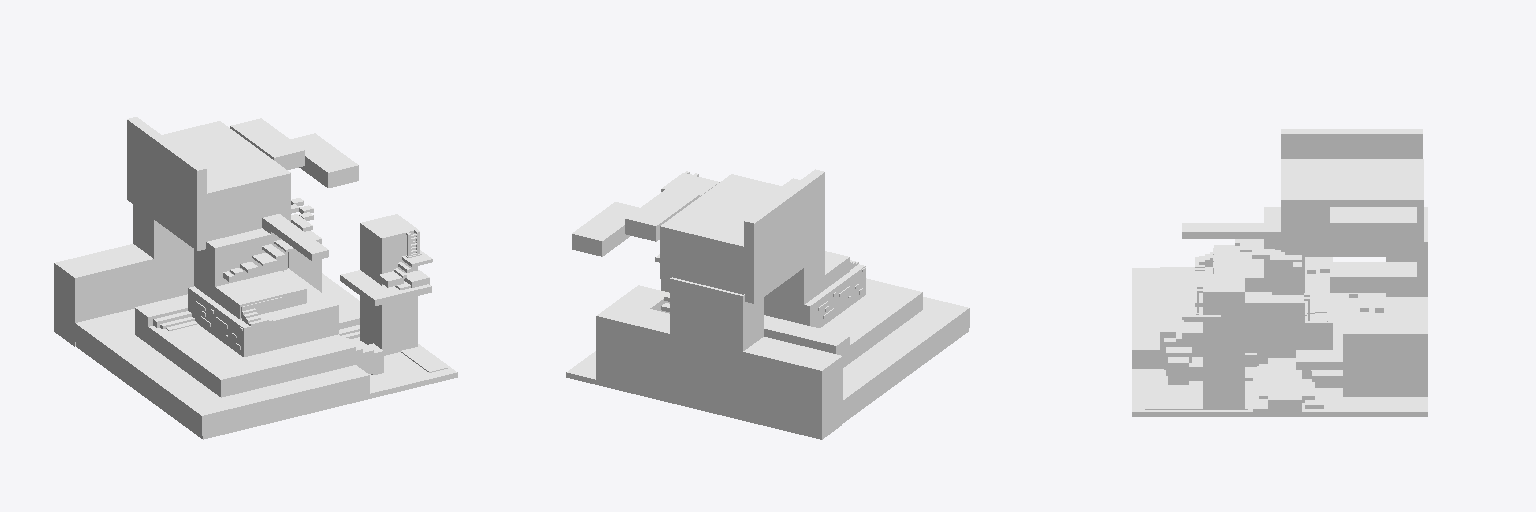
File: maps1demo-34.obj
The picture shows the model from 3 angles: view 1: azimuth 30°, elevation 25°; view 2: azimuth 150°, elevation 25°; view 3: azimuth 270°, elevation 25°; orthographic projection.
Parts seen in each view (by area): view 1: object 1; view 2: object 1; view 3: object 1.
Boxes of the visible parts, box(x1,y1,x2,y2) form: object 1: box(54, 117, 457, 439); object 1: box(566, 169, 969, 439); object 1: box(1132, 129, 1427, 416).
Size of the model in its own units: 25.6 by 18.9 by 25.6.